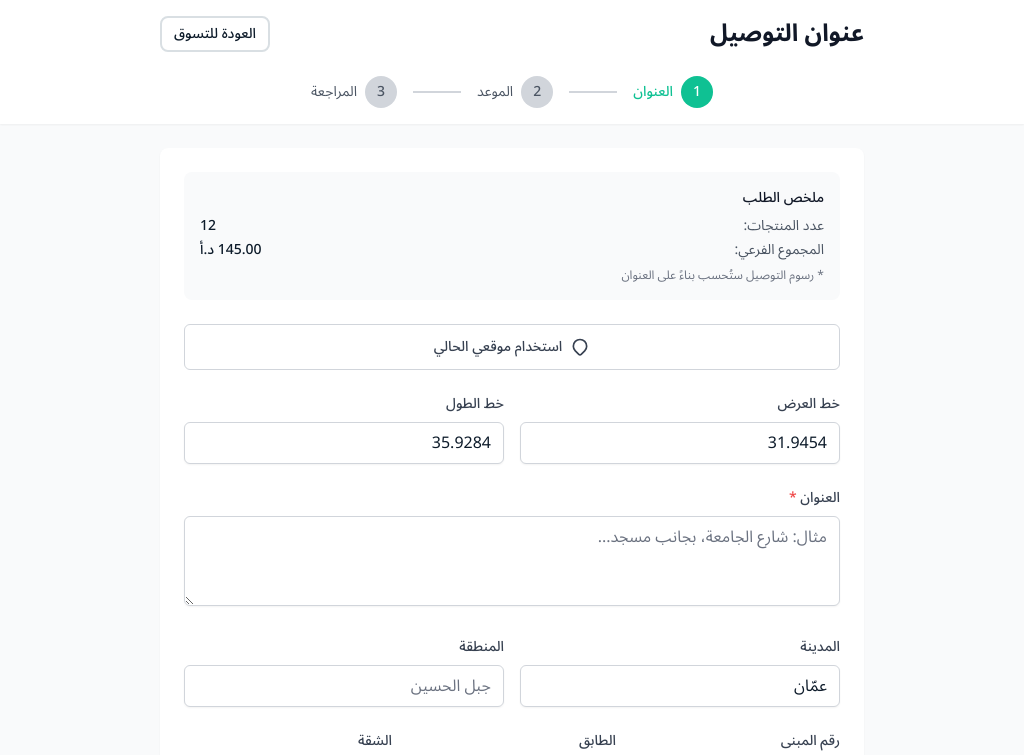
CheckoutAddressPage › Geolocation › should handle browser without geolocation support
What coordinates should you click on to do the following:
click the button "استخدام موقعي الحالي"
I would click on:
 (512, 347)
Its box is [184,324,840,370].
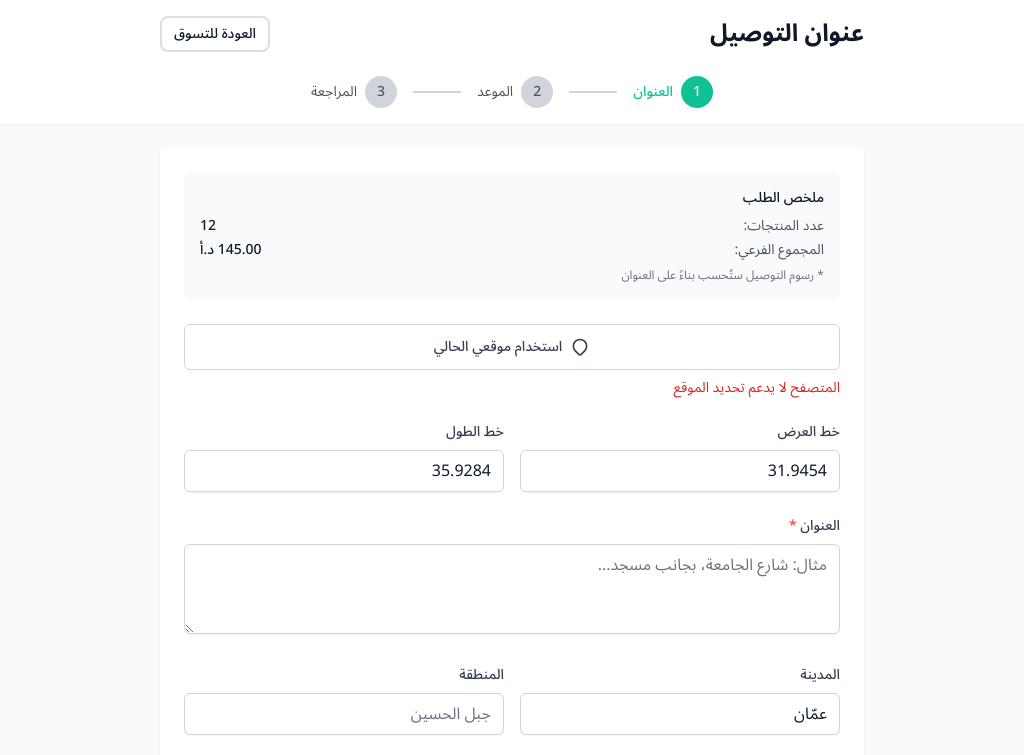
Check: the text "المتصفح لا يدعم تحديد الموقع" is shown, box [674,373,840,402]
